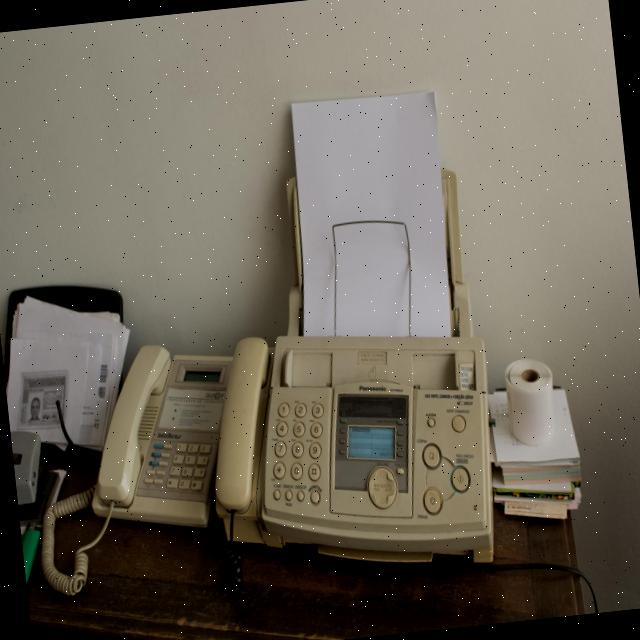Phone: (20, 308, 505, 624)
